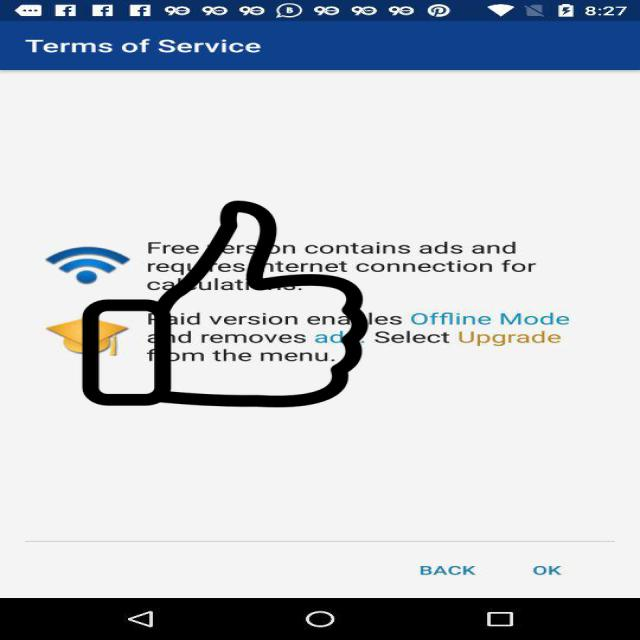privacy zuckering: (78, 201, 372, 407)
